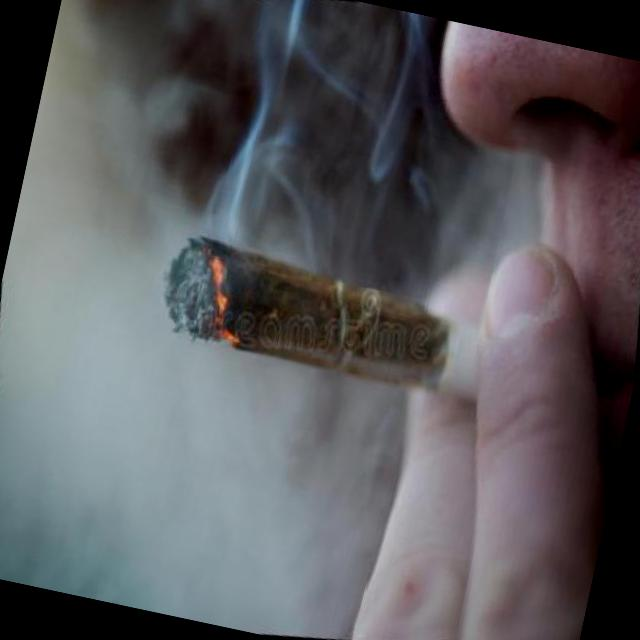cigarette: (132, 179, 512, 453)
